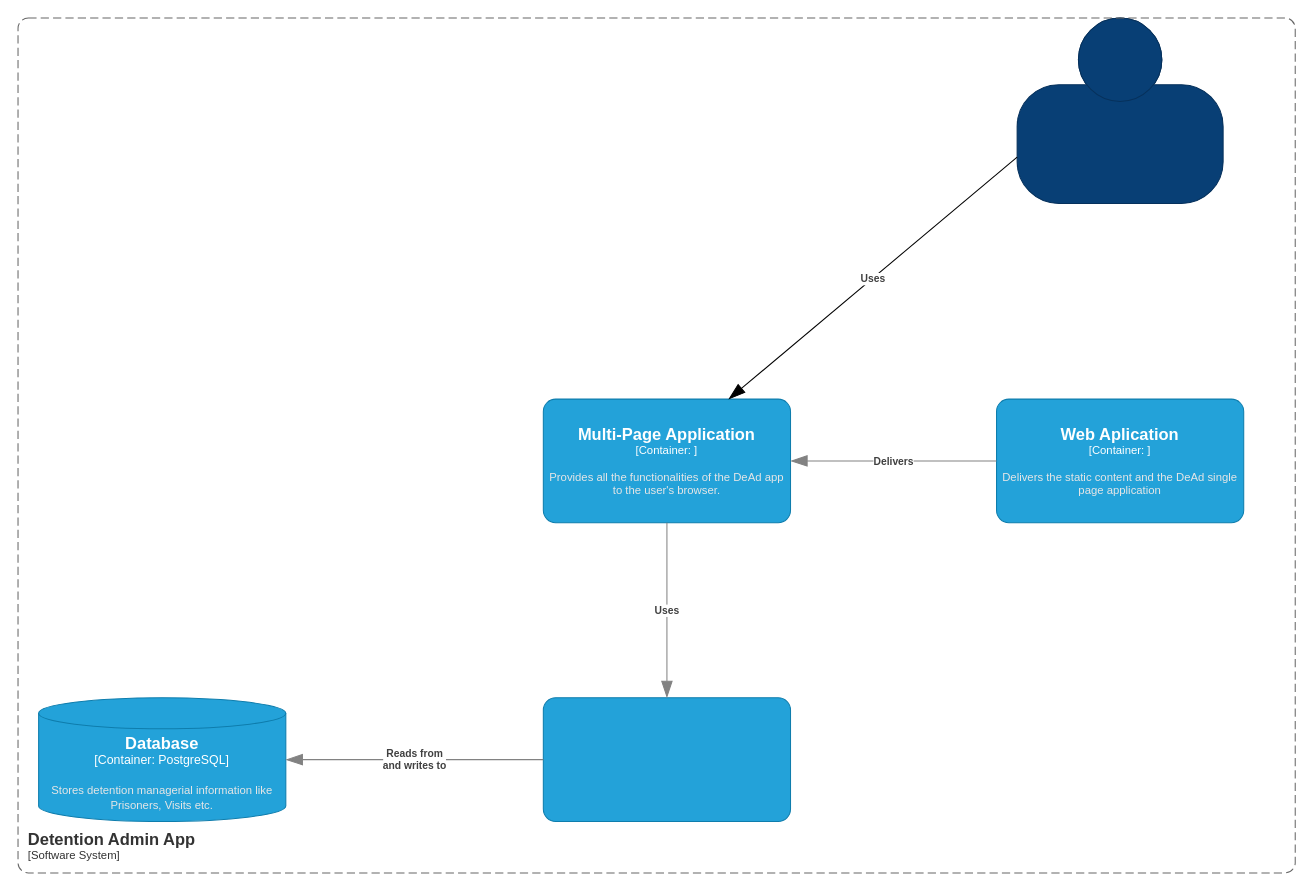
This 1313x891 diagram has some shape labels left out. The shapes that lost their labels are listed below. From the top down, each one's centre as x and y in pixels, then its label:
(1119,110): User [Person] Detention authorized person
(666,759): API Application [Container: Python] Provides DeAd App functionality via JSON
